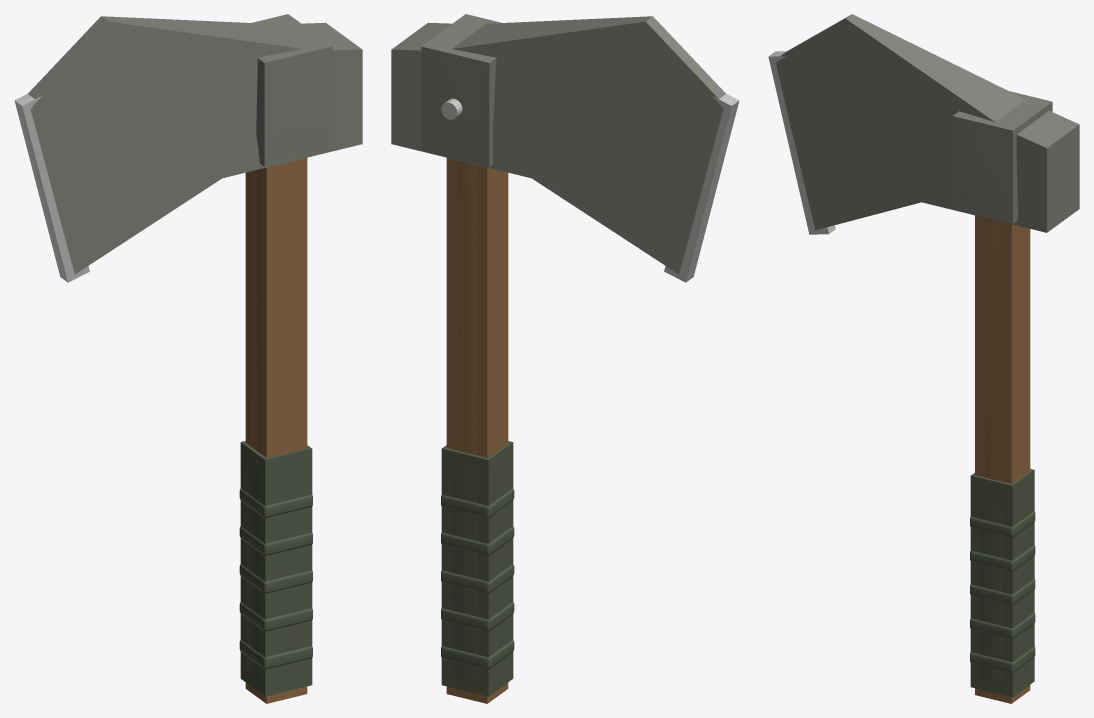
File: SurvivalAxe.glb
The picture shows the model from 3 angles, left to right: view 1: azimuth 30°, elevation 25°; view 2: azimuth 150°, elevation 25°; view 3: azimuth 330°, elevation 25°; orthographic projection. The views are drawn at different scales.
Visible parts, largest first — view 1: LOD0_GearSteel, LOD1_AxeWood, LOD1_GearStrap, LOD0_GearStrap, LOD0_AxeWood, LOD1_GearSteel, LOD1_AxeEdge, LOD0_AxeEdge; view 2: LOD0_GearSteel, LOD1_AxeWood, LOD0_GearStrap, LOD1_GearStrap, LOD0_AxeWood, LOD1_GearSteel, LOD1_AxeEdge, LOD0_AxeEdge; view 3: LOD0_GearSteel, LOD1_AxeWood, LOD0_GearStrap, LOD1_GearStrap, LOD1_GearSteel, LOD0_AxeWood, LOD1_AxeEdge, LOD0_AxeEdge.
Part boxes in pixels (x1=…): LOD0_GearSteel: x1=28, y1=16, x2=362, y2=274; LOD1_AxeWood: x1=245, y1=157, x2=307, y2=703; LOD1_GearStrap: x1=240, y1=441, x2=312, y2=696; LOD0_GearStrap: x1=239, y1=458, x2=312, y2=682; LOD0_AxeWood: x1=252, y1=160, x2=296, y2=455; LOD1_GearSteel: x1=252, y1=14, x2=332, y2=166; LOD1_AxeEdge: x1=14, y1=93, x2=89, y2=282; LOD0_AxeEdge: x1=16, y1=95, x2=86, y2=278; LOD0_GearSteel: x1=391, y1=16, x2=725, y2=274; LOD1_AxeWood: x1=446, y1=157, x2=508, y2=703; LOD0_GearStrap: x1=441, y1=458, x2=514, y2=682; LOD1_GearStrap: x1=441, y1=441, x2=513, y2=696; LOD0_AxeWood: x1=457, y1=160, x2=501, y2=454; LOD1_GearSteel: x1=421, y1=14, x2=501, y2=166; LOD1_AxeEdge: x1=443, y1=93, x2=739, y2=282; LOD0_AxeEdge: x1=441, y1=95, x2=737, y2=278; LOD0_GearSteel: x1=775, y1=14, x2=1079, y2=232; LOD1_AxeWood: x1=975, y1=215, x2=1030, y2=703; LOD0_GearStrap: x1=970, y1=488, x2=1035, y2=684; LOD1_GearStrap: x1=970, y1=469, x2=1034, y2=697; LOD1_GearSteel: x1=952, y1=91, x2=1052, y2=223; LOD0_AxeWood: x1=985, y1=218, x2=1024, y2=479; LOD1_AxeEdge: x1=768, y1=51, x2=835, y2=234; LOD0_AxeEdge: x1=771, y1=52, x2=833, y2=231.
Size of the model in its own units: 0.3605 by 0.755 by 0.0965.
